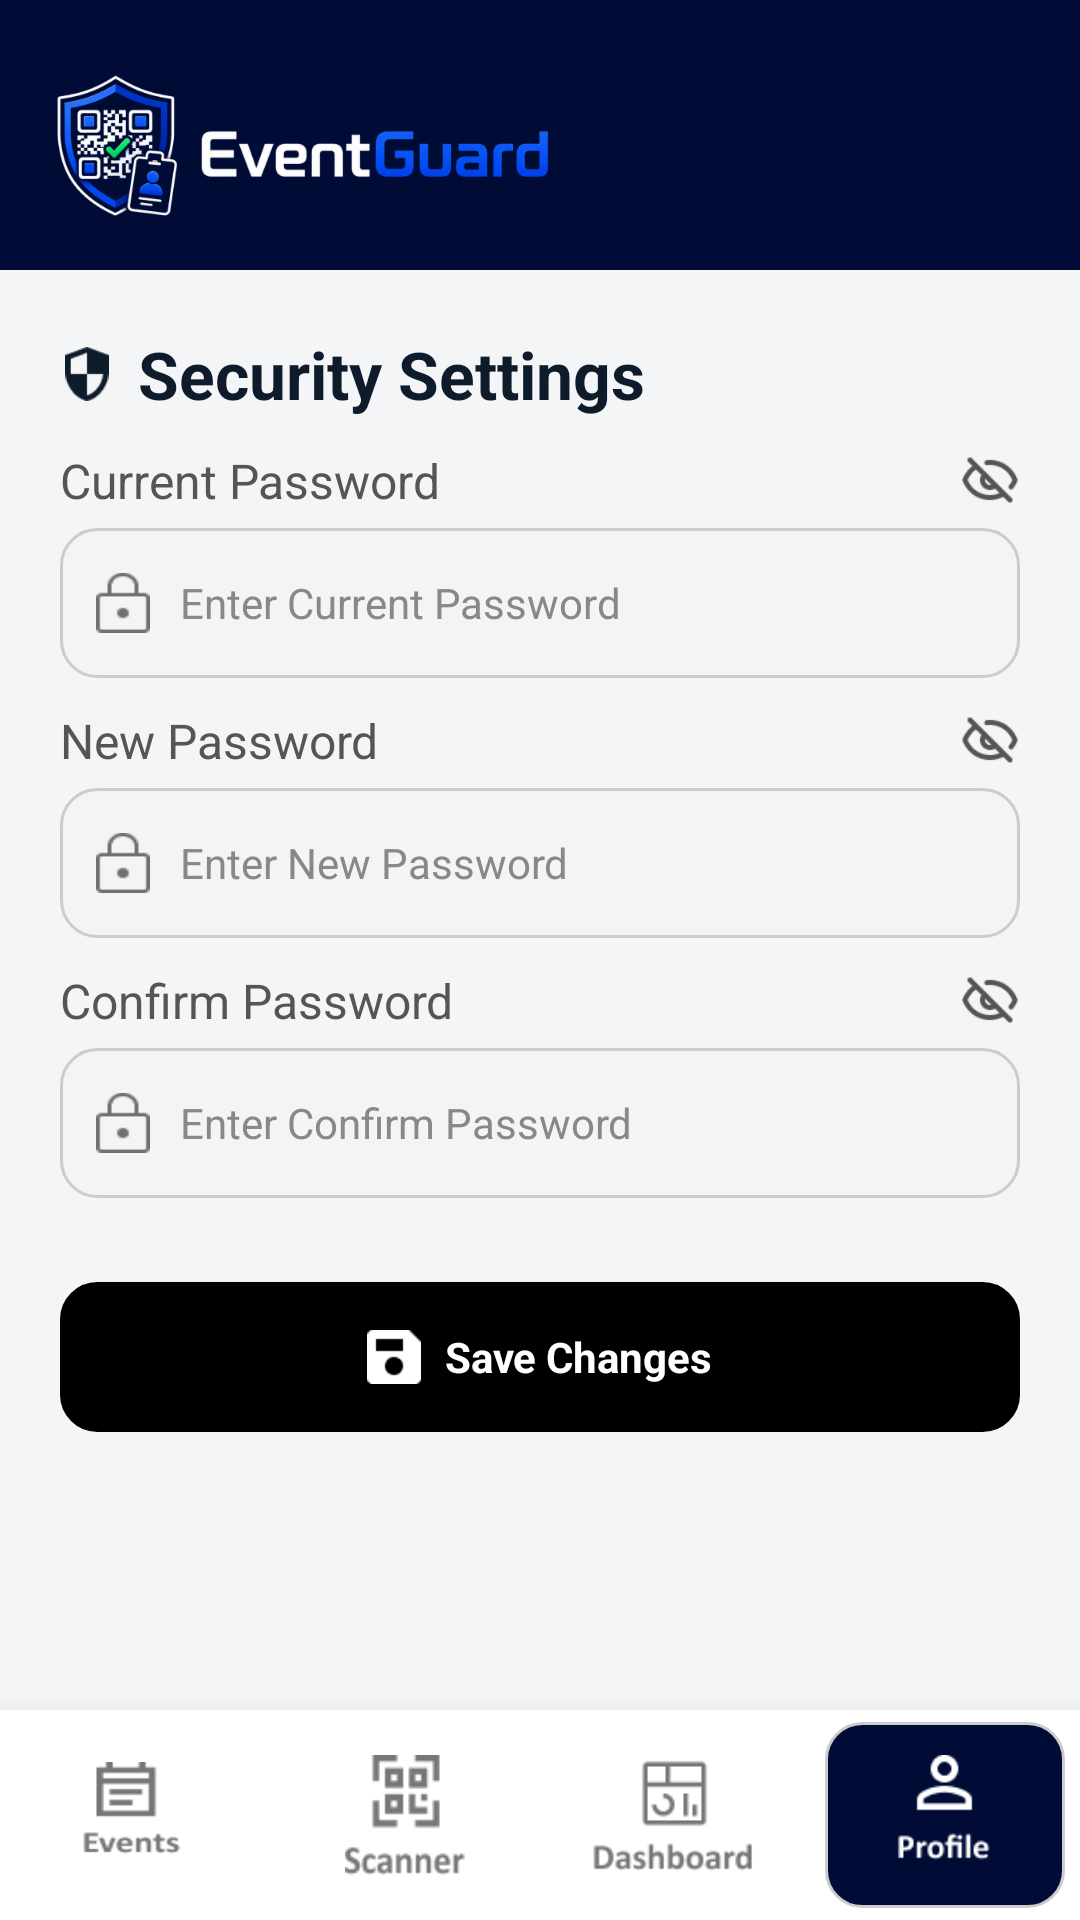

Named icons in this screenshot (1080*1920) and their centers, (x,y):
Toggle Password: (990,480), (990,740), (990,1000)
